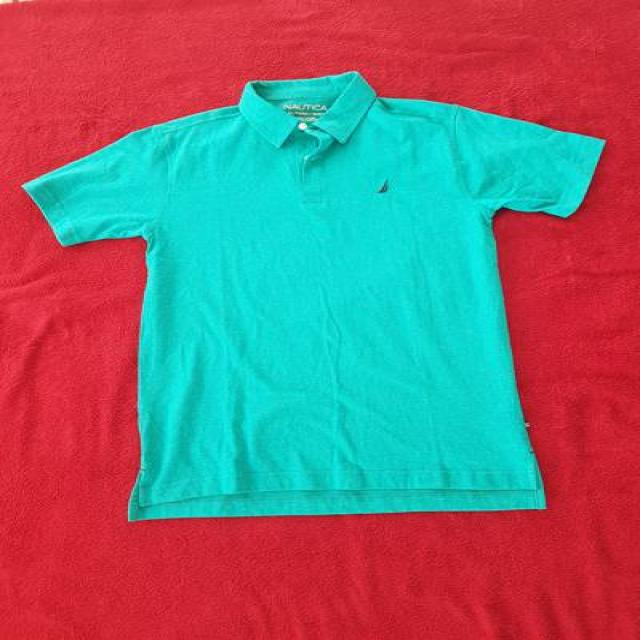Clothes -Biodegradable-: (28, 74, 604, 519)
